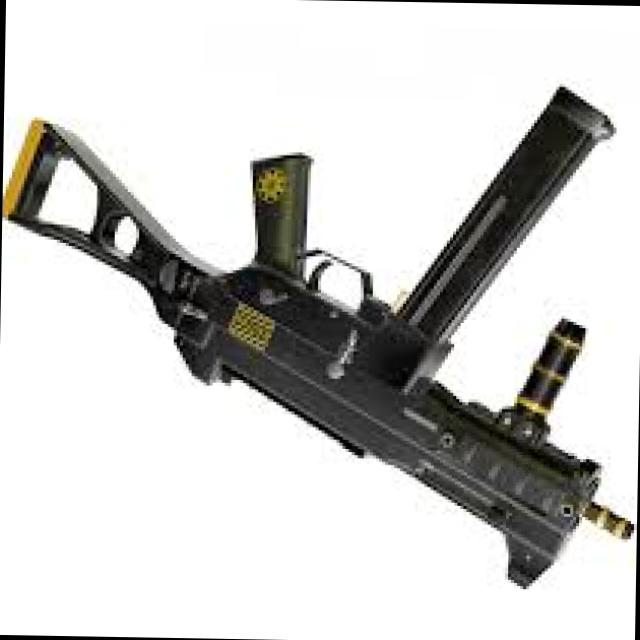Gun: (0, 43, 640, 600)
